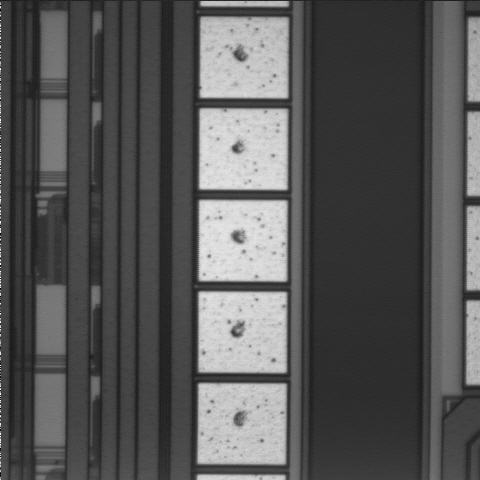pad: (199, 109, 287, 190), (199, 200, 287, 281), (200, 18, 288, 98), (198, 384, 286, 464), (199, 292, 286, 372)
